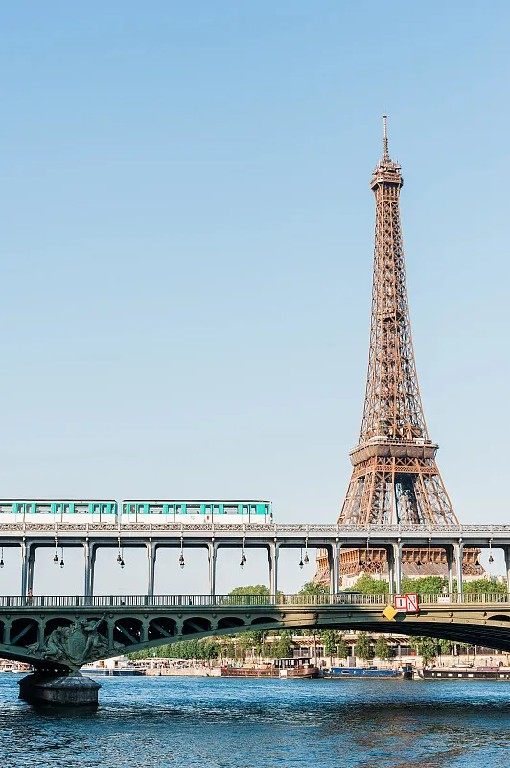Eiffel: (310, 103, 485, 582)
